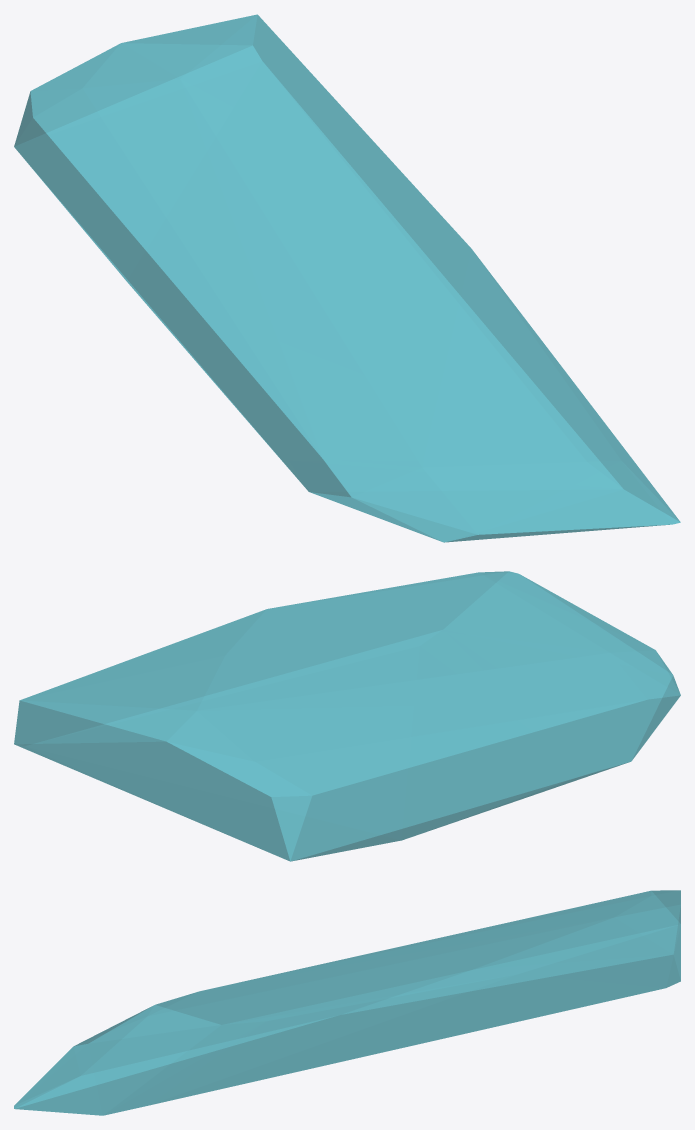
The picture shows the model from 3 angles, top to bottom: view 1: azimuth 30°, elevation 25°; view 2: azimuth 150°, elevation 25°; view 3: azimuth 270°, elevation 25°; orthographic projection. The views are drawn at different scales.
Parts seen in each view (by area): view 1: Shape_IndexedFaceSet.031_Shape_IndexedFaceSet.14064; view 2: Shape_IndexedFaceSet.031_Shape_IndexedFaceSet.14064; view 3: Shape_IndexedFaceSet.031_Shape_IndexedFaceSet.14064.
Boxes of the visible parts, left/top/right/bottom form: Shape_IndexedFaceSet.031_Shape_IndexedFaceSet.14064: left=14, top=14, right=680, bottom=542; Shape_IndexedFaceSet.031_Shape_IndexedFaceSet.14064: left=14, top=571, right=680, bottom=861; Shape_IndexedFaceSet.031_Shape_IndexedFaceSet.14064: left=14, top=890, right=680, bottom=1115.
Size of the model in its own units: 0.097 by 0.0803 by 0.301.
